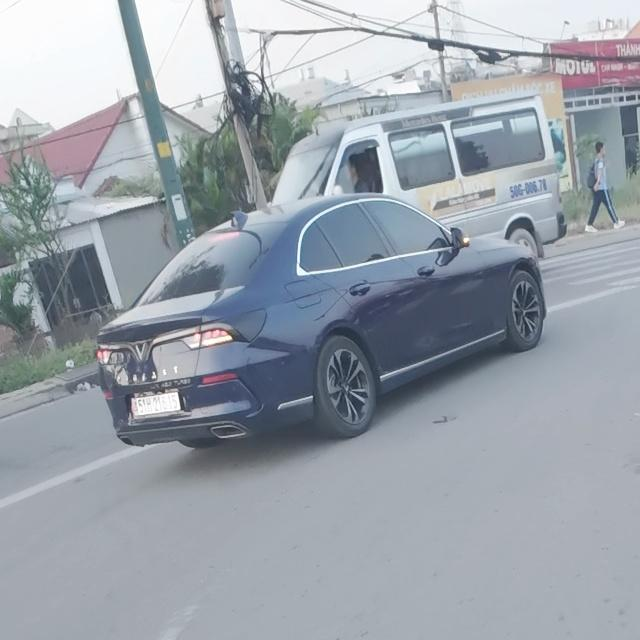license-plate: (132, 391, 181, 416)
